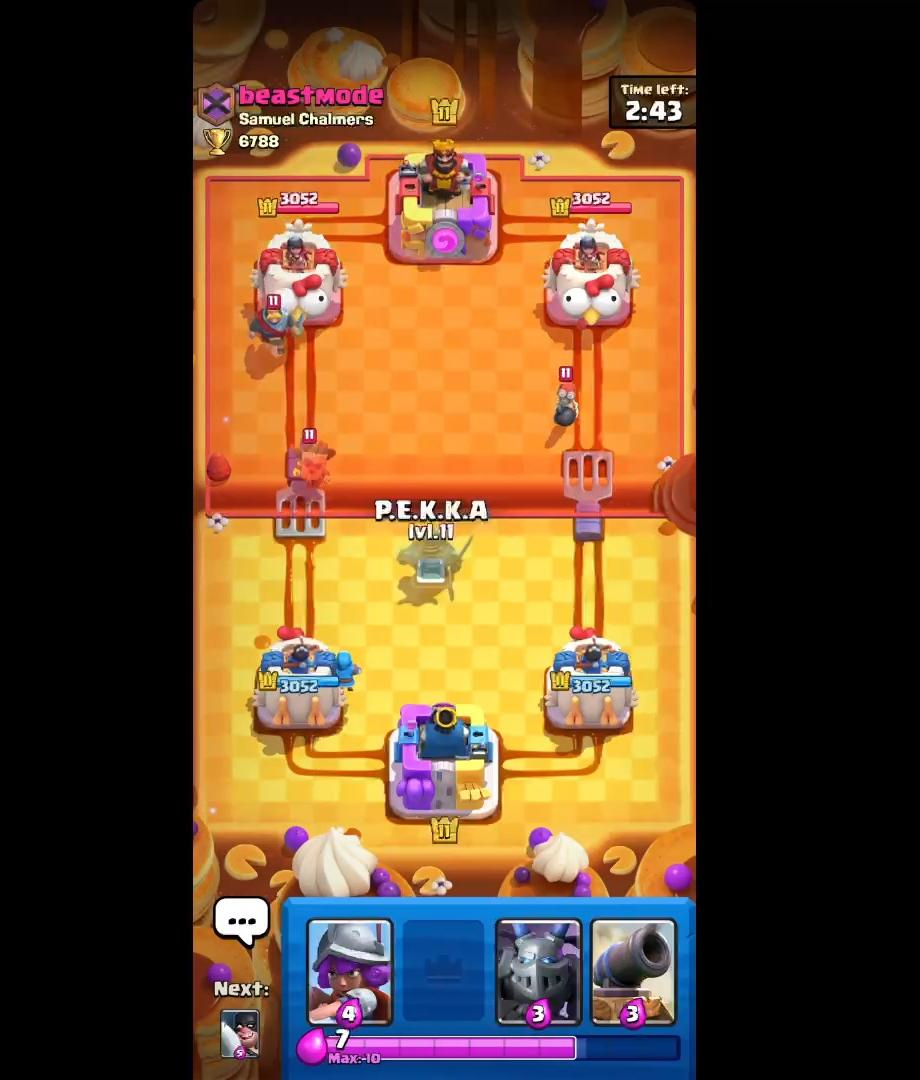Bomber: (546, 363, 587, 435)
Knight: (249, 293, 311, 355)
